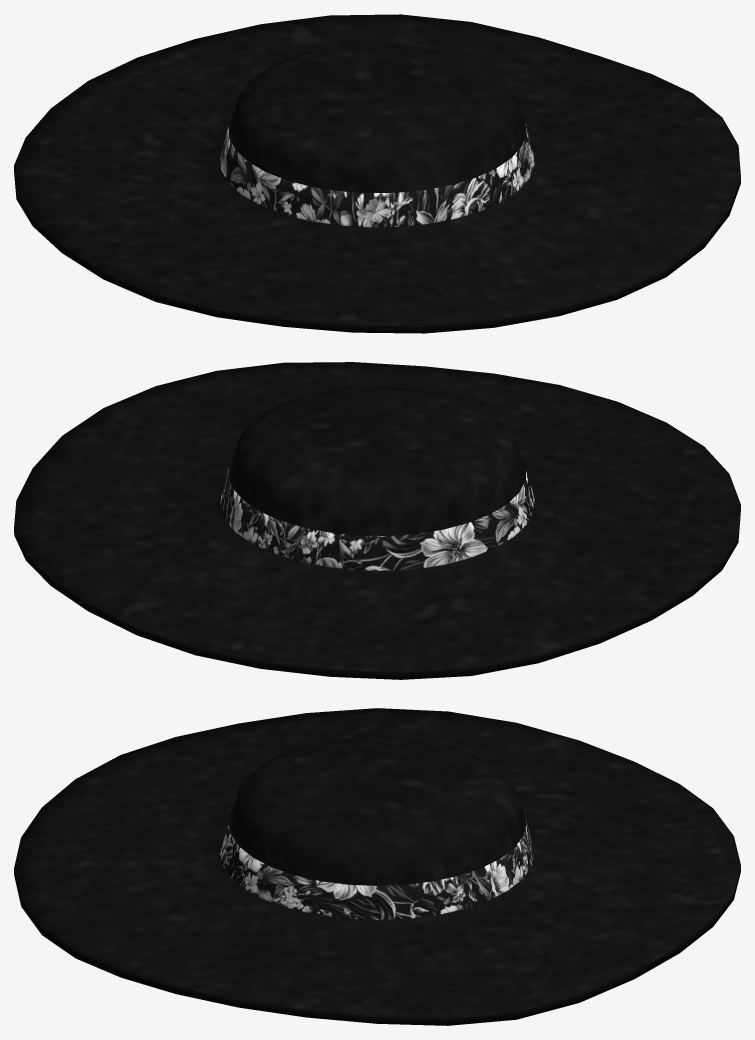
File: mothers_hat.glb
3 renders of one model, top to bottom at view 1: azimuth 30°, elevation 25°; view 2: azimuth 150°, elevation 25°; view 3: azimuth 270°, elevation 25°, orthographic.
Parts seen in each view (by area): view 1: Sun Hat; view 2: Sun Hat; view 3: Sun Hat.
Part boxes in pixels (<box>): Sun Hat: <box>14,14,740,333</box>; Sun Hat: <box>14,362,740,679</box>; Sun Hat: <box>14,708,740,1025</box>.
Size of the model in its own units: 4.58 by 0.6692 by 4.58.
Materials: 1 (1 with a texture image).
